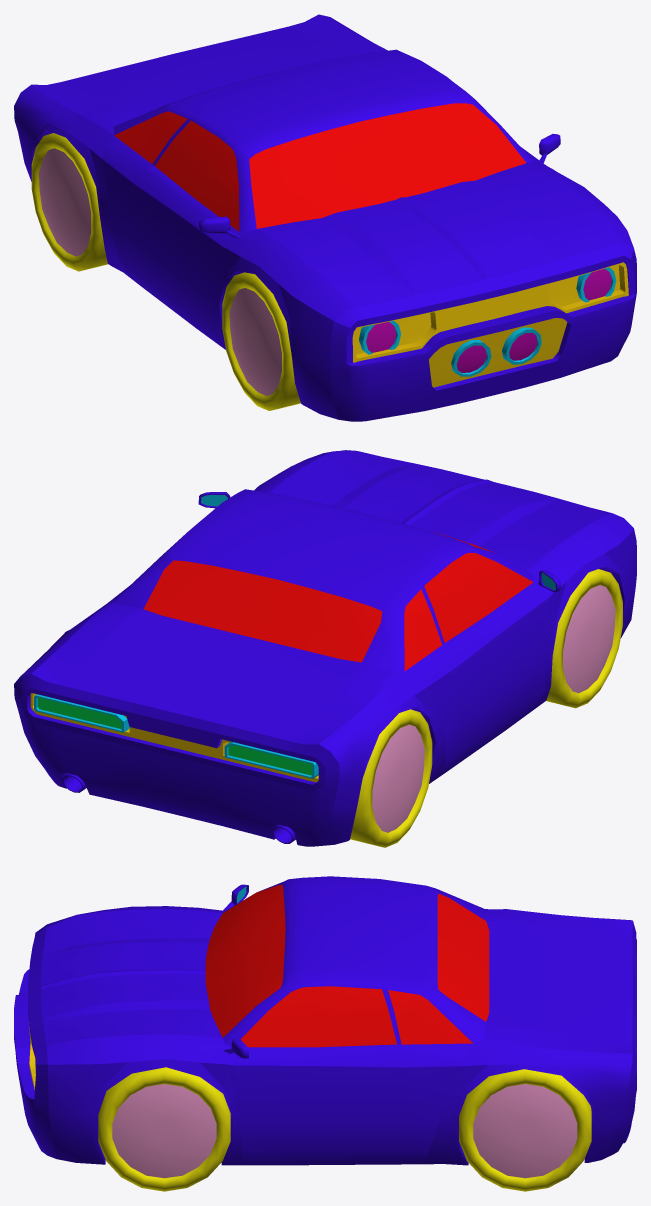
The model's file is 14_SteinBefugnis71_ColorCode.fbx.
The picture shows the model from 3 angles, top to bottom: view 1: azimuth 30°, elevation 25°; view 2: azimuth 150°, elevation 25°; view 3: azimuth 270°, elevation 25°; orthographic projection. The views are drawn at different scales.
Parts seen in each view (by area): view 1: Body, tireFrontR, tireBackR; view 2: Body, tireBackR, tireFrontR; view 3: Body, tireFrontL, tireBackL.
Boxes of the visible parts, left/top/right/bottom form: Body: left=14, top=14, right=636, bottom=421; tireFrontR: left=222, top=272, right=300, bottom=410; tireBackR: left=31, top=133, right=107, bottom=271; Body: left=14, top=450, right=636, bottom=846; tireBackR: left=350, top=709, right=432, bottom=847; tireFrontR: left=546, top=569, right=622, bottom=708; Body: left=14, top=876, right=636, bottom=1165; tireFrontL: left=98, top=1067, right=230, bottom=1191; tireBackL: left=459, top=1069, right=591, bottom=1191.
Size of the model in its own units: 66.53 by 35.84 by 105.
